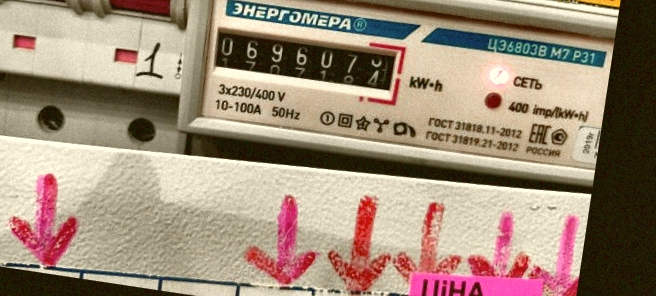0: (317, 46, 335, 69), (218, 34, 235, 56)
4: (365, 66, 381, 88)
6: (243, 36, 260, 59), (292, 44, 309, 66)
7: (342, 51, 360, 74)
9: (268, 40, 283, 63)
screen: (198, 14, 410, 103)
